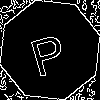P: (25, 25, 70, 78)
